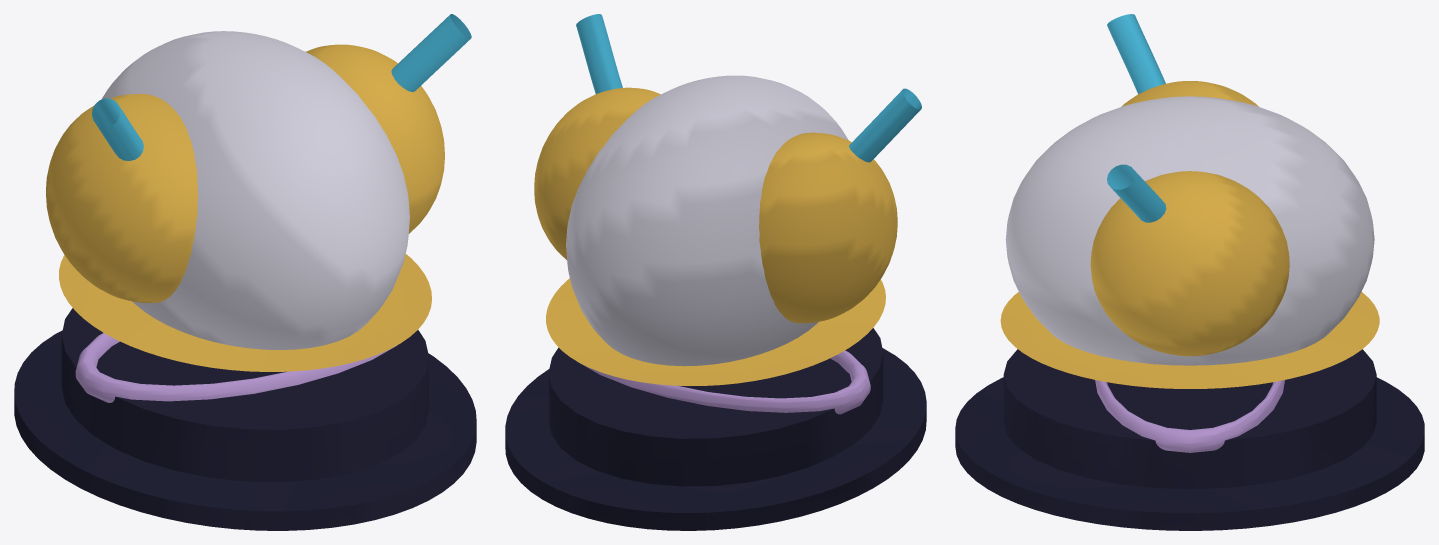
The model's file is 0178_人体图鉴_尖牙.glb.
3 views of the same model, side by side, from view 1: azimuth 30°, elevation 25°; view 2: azimuth 150°, elevation 25°; view 3: azimuth 270°, elevation 25° (orthographic). The views are drawn at different scales.
Parts seen in each view (by area): view 1: card_0178; view 2: card_0178; view 3: card_0178.
Part boxes in pixels (bbox=[...]): card_0178: bbox=[14, 14, 476, 530]; card_0178: bbox=[505, 14, 926, 530]; card_0178: bbox=[955, 14, 1424, 530].
Size of the model in its own units: 1.02 by 1 by 1.19.
